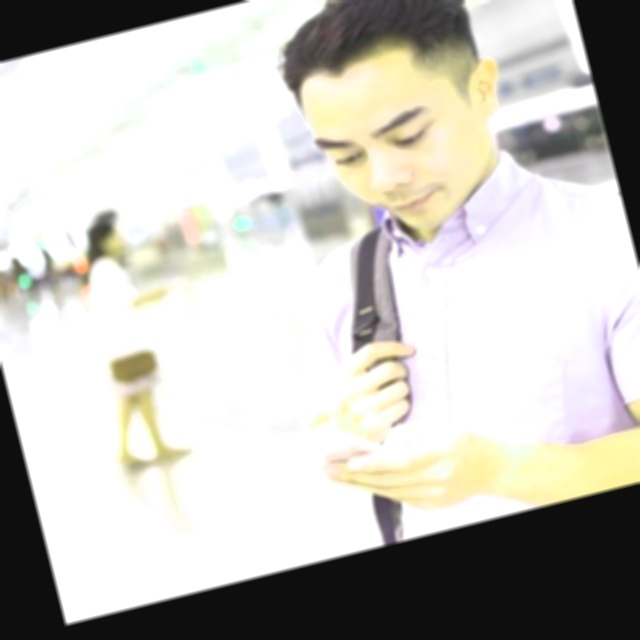Sin_Casco_Mascarrilla: (251, 0, 526, 255)
Sin_Chaleco: (291, 158, 640, 550)
